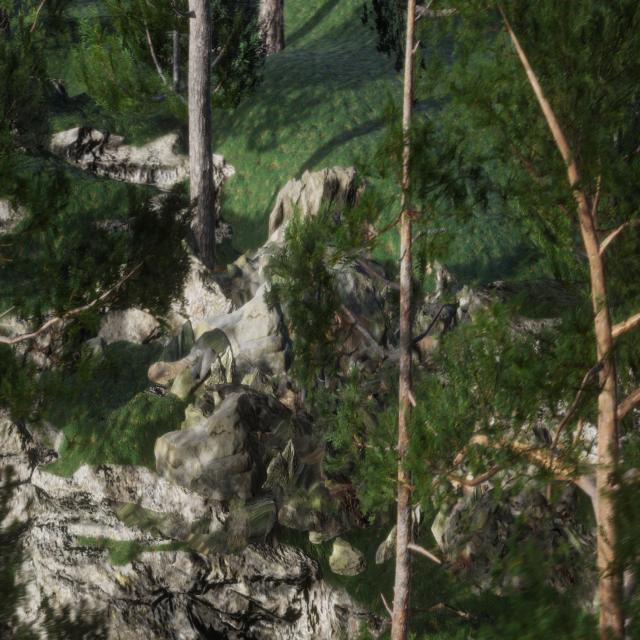Human: (298, 364, 361, 425)
